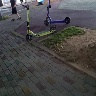beam: (41, 1, 74, 27)
gcooter: (20, 3, 58, 43)
